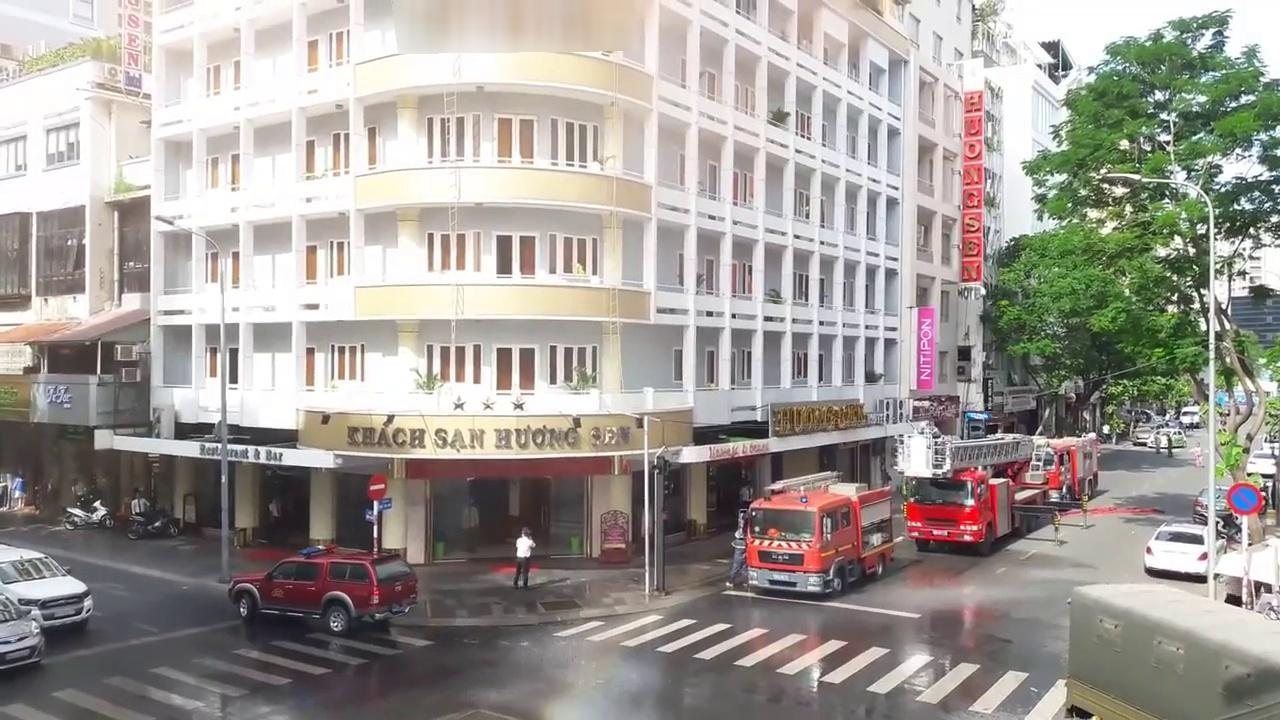xe cuu hoa: (745, 469, 894, 597), (902, 431, 1041, 548), (1022, 432, 1101, 507)
xe hoi: (233, 545, 408, 631), (0, 537, 91, 627), (1145, 520, 1216, 580)
xe tai: (1064, 586, 1279, 720)
